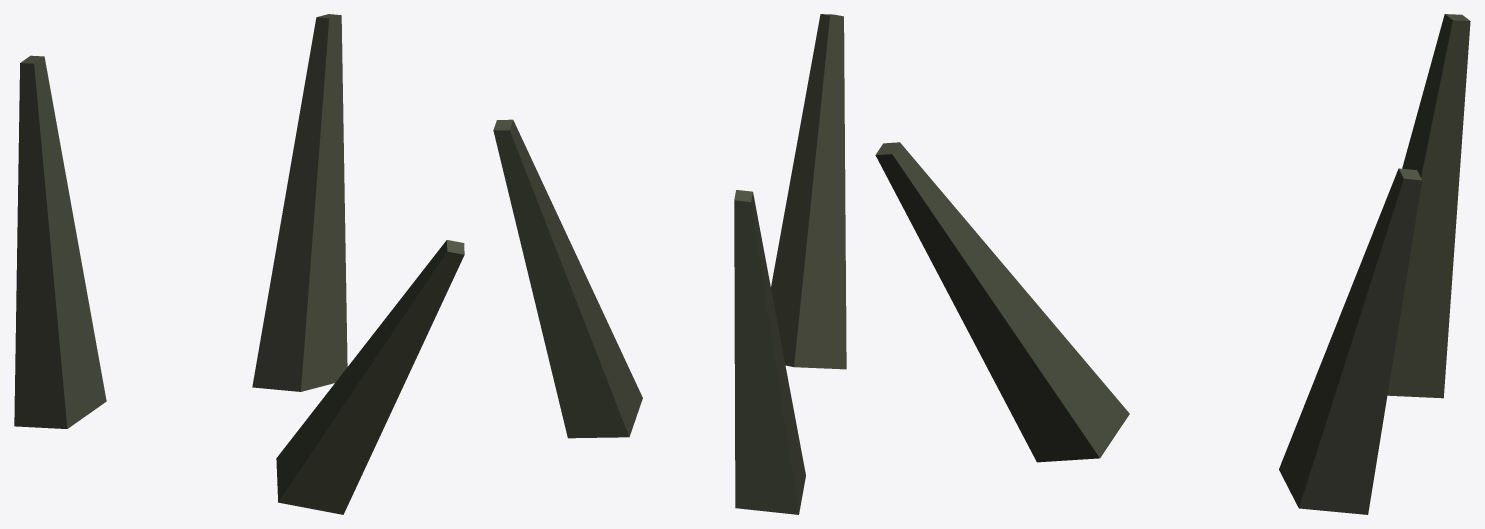
Rendered from AI_Env_Sewer_Plant_02.fbx.
The picture shows the model from 3 angles, left to right: view 1: azimuth 30°, elevation 25°; view 2: azimuth 150°, elevation 25°; view 3: azimuth 270°, elevation 25°; orthographic projection. The views are drawn at different scales.
Visible parts, largest first — view 1: AI_Env_Sewer_Plant_02; view 2: AI_Env_Sewer_Plant_02; view 3: AI_Env_Sewer_Plant_02.
Boxes of the visible parts, <box> form: AI_Env_Sewer_Plant_02: <box>14,14,464,514</box>; AI_Env_Sewer_Plant_02: <box>493,14,846,514</box>; AI_Env_Sewer_Plant_02: <box>875,14,1470,514</box>.
Bounding box in the file's own units: 0.3586 × 0.3682 × 0.5188.
